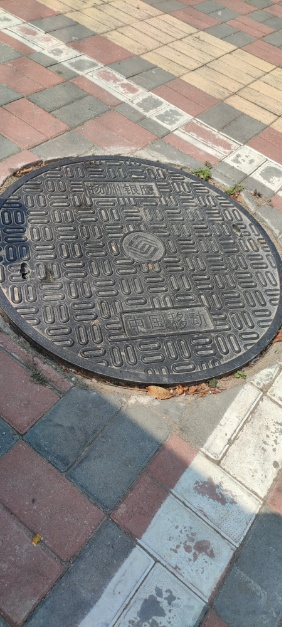good: (1, 155, 280, 387)
